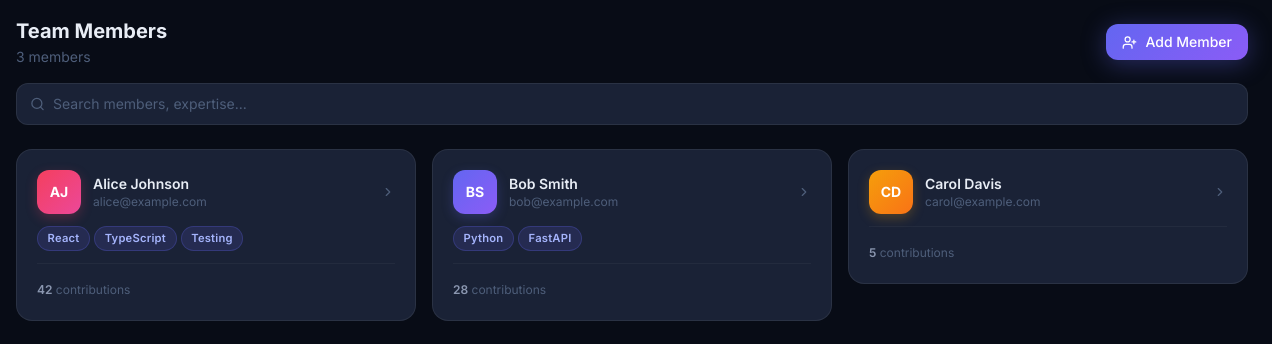
Test: MemberList › shows no-match message when search has no results
Check: the text "Alice Johnson" is shown, box left=93, top=175, right=189, bottom=192
Type "zzzznonexistent" into the field with placeholder "Search members, expertise...".
click(632, 104); type("zzzznonexistent")  # box left=16, top=83, right=1248, bottom=125
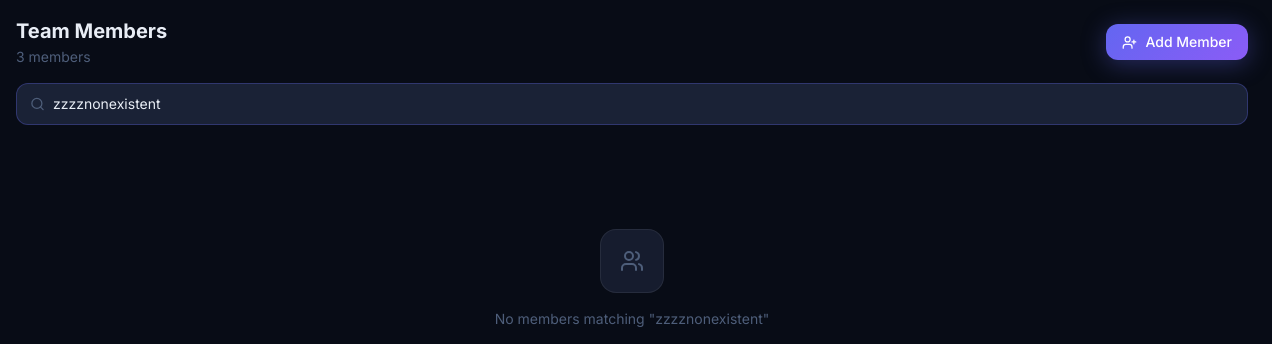
Check: the text "No members matching \"zzzznonexistent\"" is shown, box left=495, top=310, right=769, bottom=327
